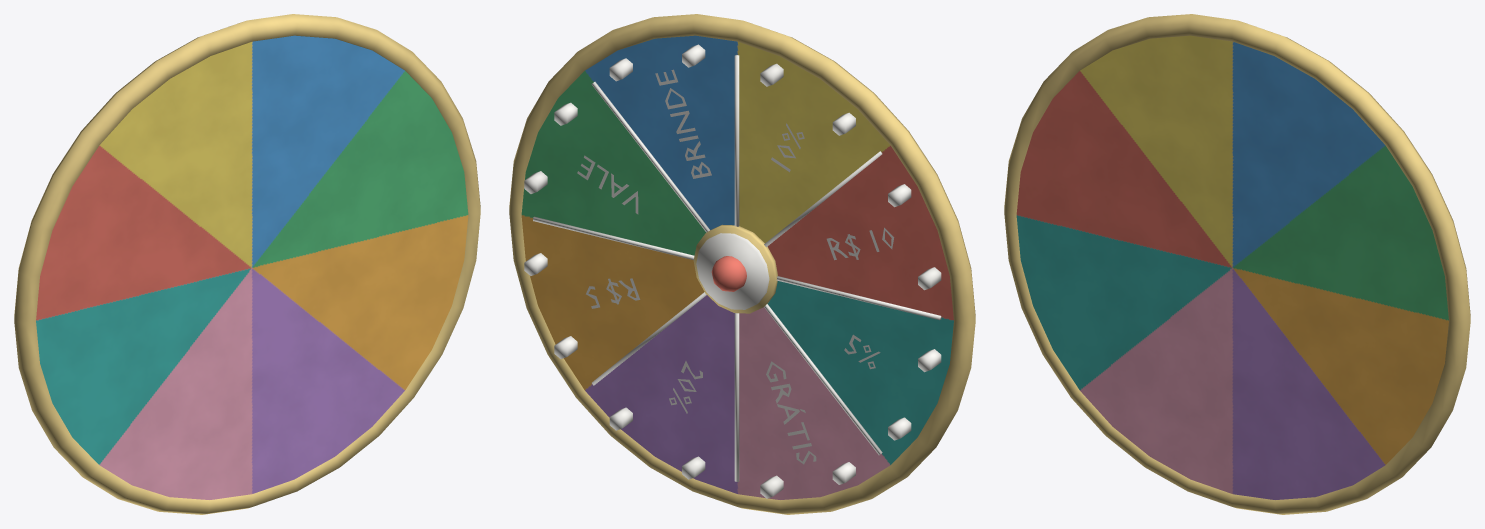
Rendered from Sorteio_WheelDisc.fbx.
3 renders of one model, left to right at view 1: azimuth 30°, elevation 25°; view 2: azimuth 150°, elevation 25°; view 3: azimuth 330°, elevation 25°, orthographic.
Parts seen in each view (by area): view 1: Sorteio_WheelDisc; view 2: Sorteio_WheelDisc; view 3: Sorteio_WheelDisc.
Part boxes in pixels (bbox=[...]): Sorteio_WheelDisc: bbox=[14, 14, 480, 514]; Sorteio_WheelDisc: bbox=[509, 14, 975, 514]; Sorteio_WheelDisc: bbox=[1004, 14, 1470, 514].
Size of the model in its own units: 1.72 by 1.72 by 0.1746.
1 material, 1 textured.
